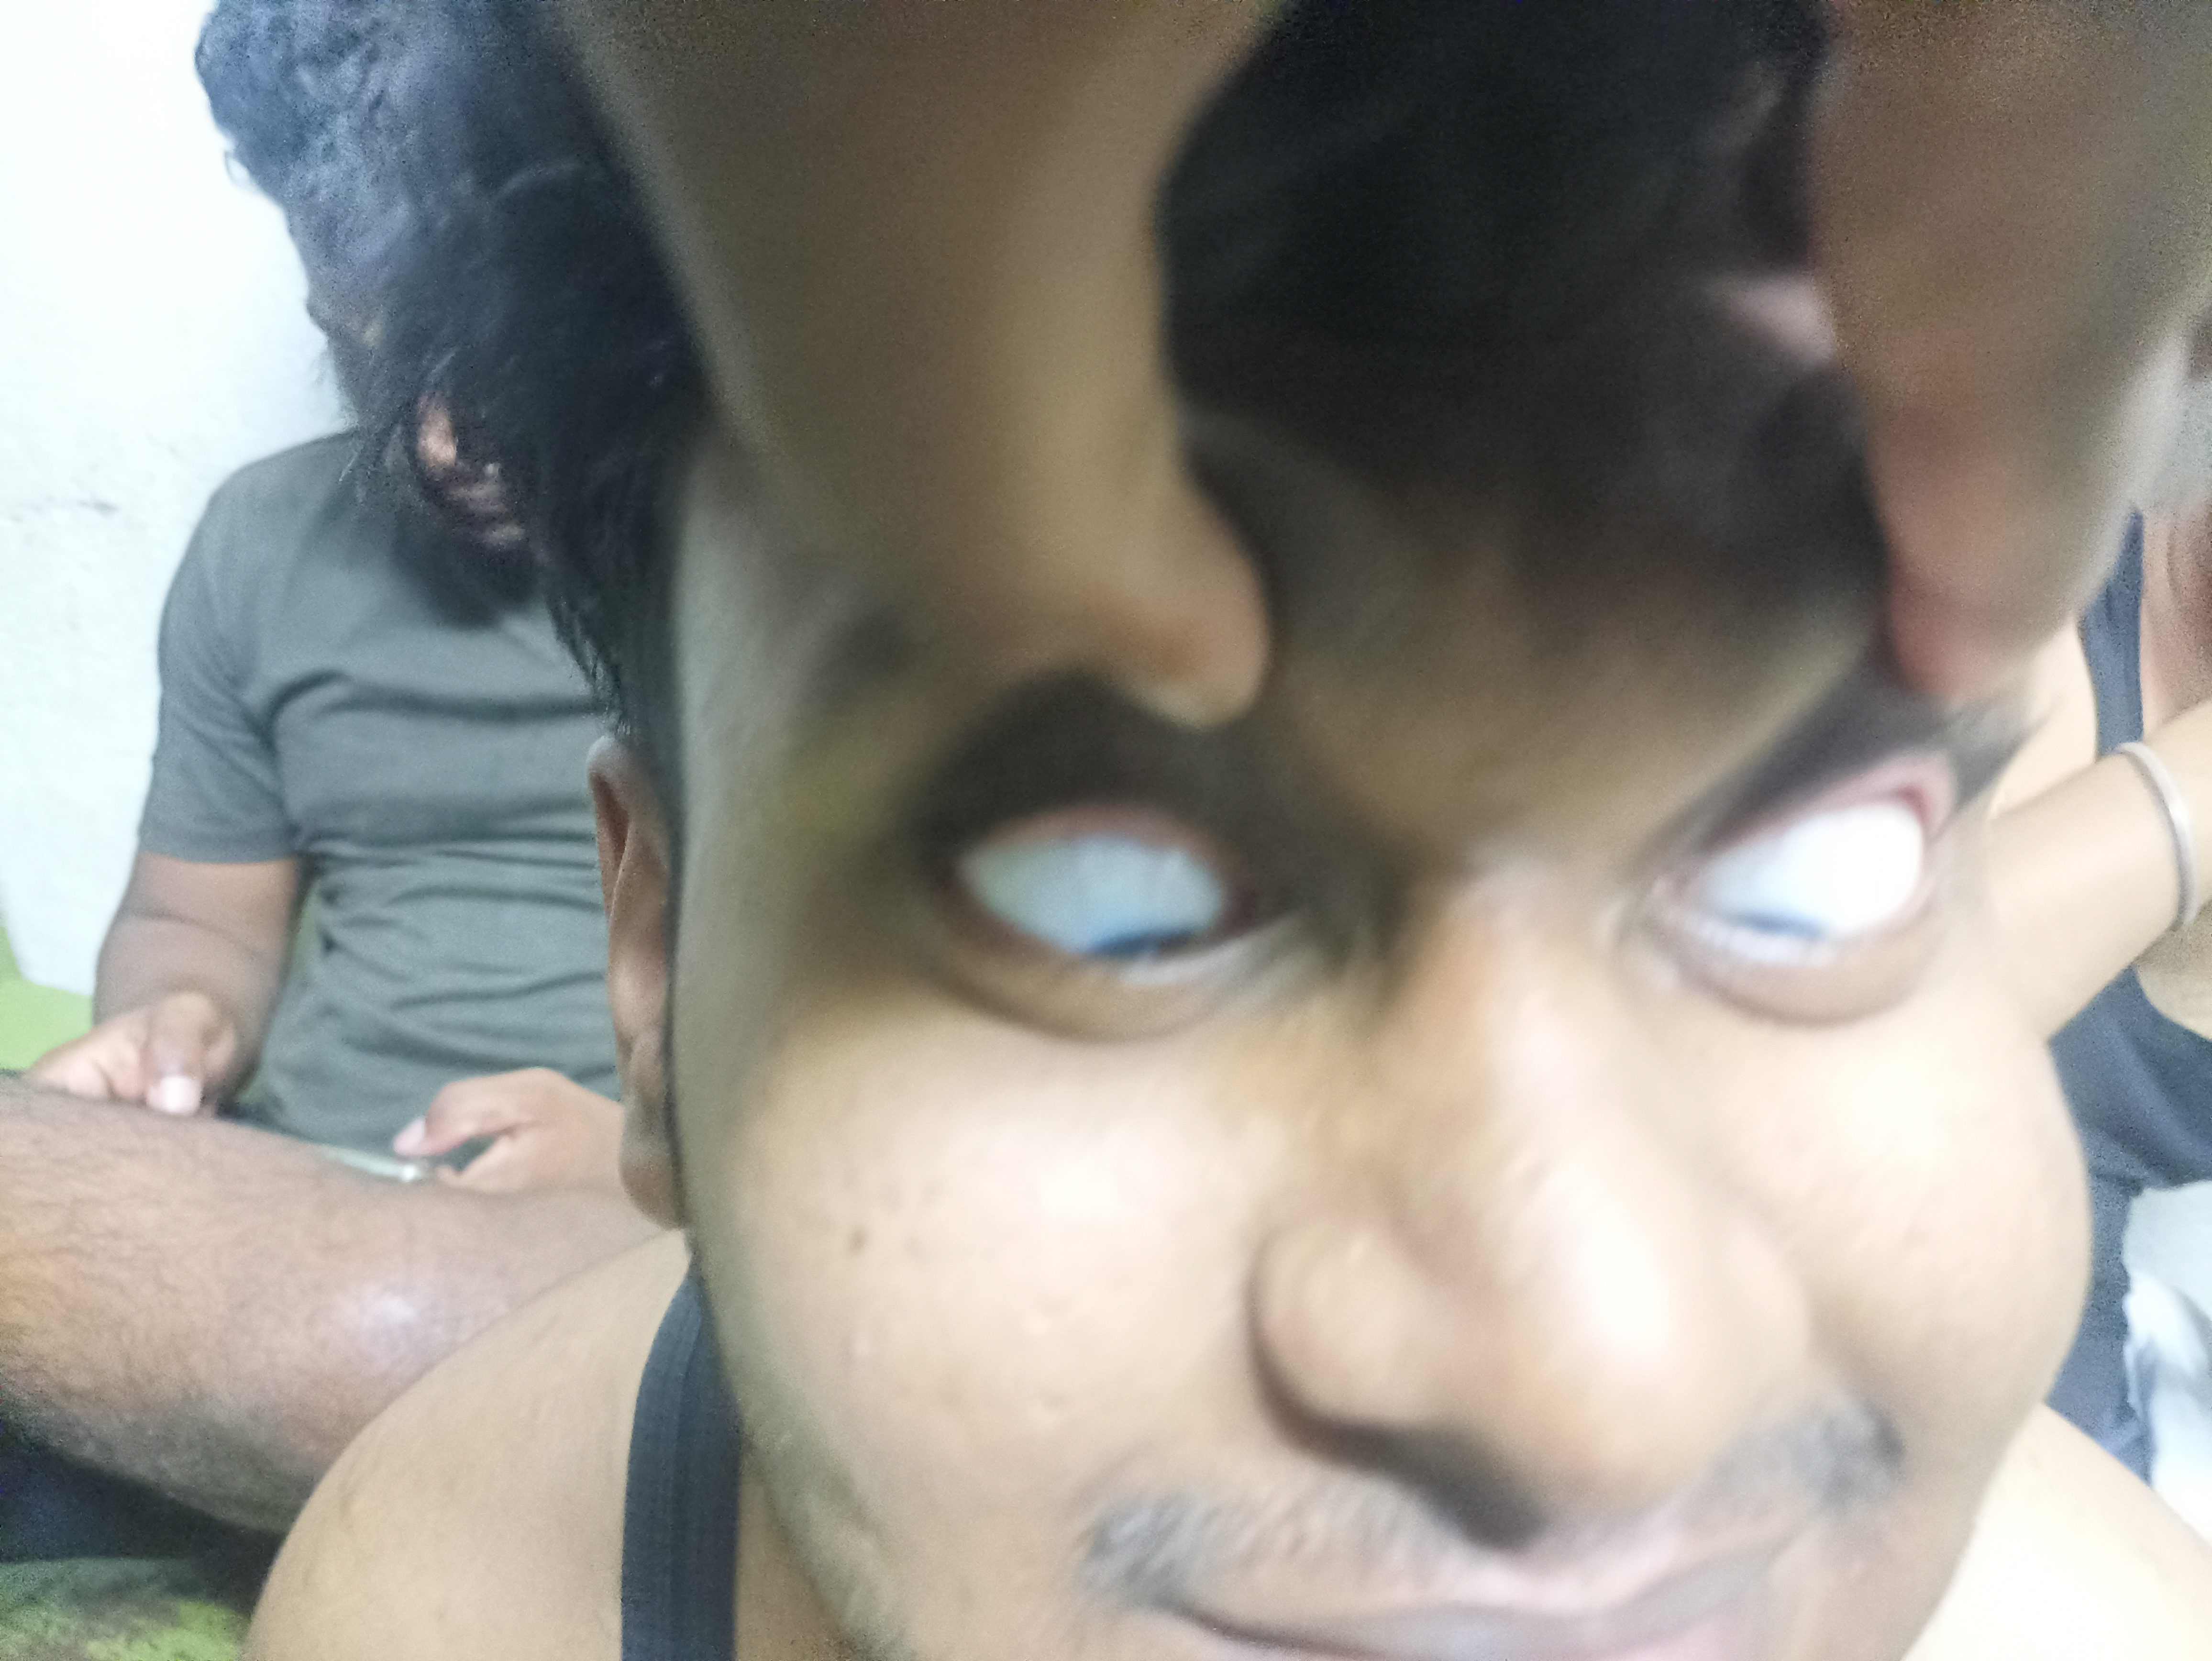EYE DOWN: (569, 680, 1387, 1138), (1511, 673, 2123, 1174)
